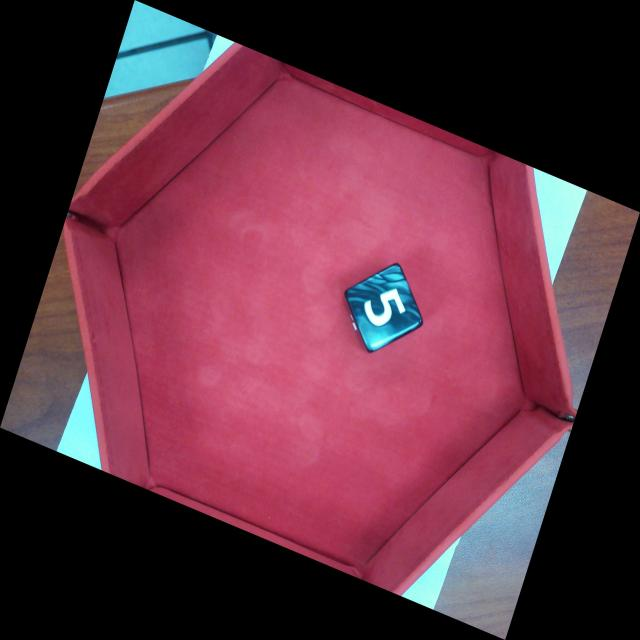dice: (344, 262, 426, 354)
